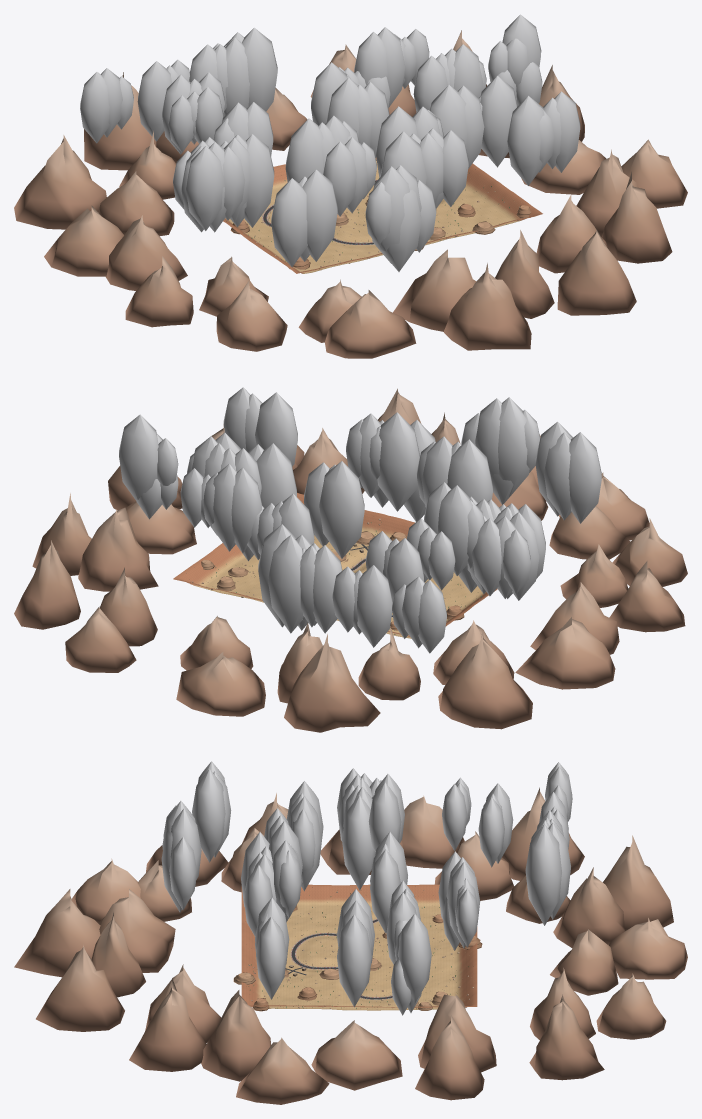
File: deserto.glb
The picture shows the model from 3 angles, top to bottom: view 1: azimuth 30°, elevation 25°; view 2: azimuth 150°, elevation 25°; view 3: azimuth 270°, elevation 25°; orthographic projection. The views are drawn at different scales.
Visible parts, largest first — view 1: CloudMesh, Backdrop, Terrain-col; view 2: CloudMesh, Backdrop, Terrain-col; view 3: Backdrop, CloudMesh, Terrain-col.
Boxes of the visible parts, x1,y1,x2,y2 form: CloudMesh: (80,14,580,271); Backdrop: (14,30,687,358); Terrain-col: (223,157,542,273); CloudMesh: (119,387,601,653); Backdrop: (14,388,687,732); Terrain-col: (173,493,497,638); Backdrop: (14,787,687,1104); CloudMesh: (161,761,572,1015); Terrain-col: (241,884,477,1010).
Size of what is drawn, in the model's own units: 2283 by 578 by 2360.
10 materials, 7 textured.
